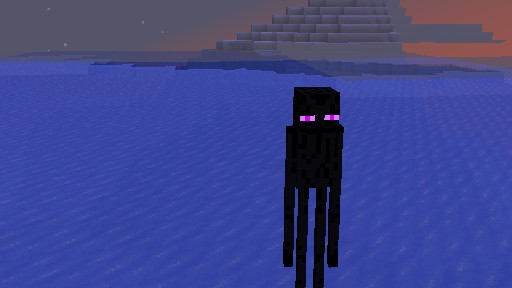enderman: (282, 86, 343, 288)
